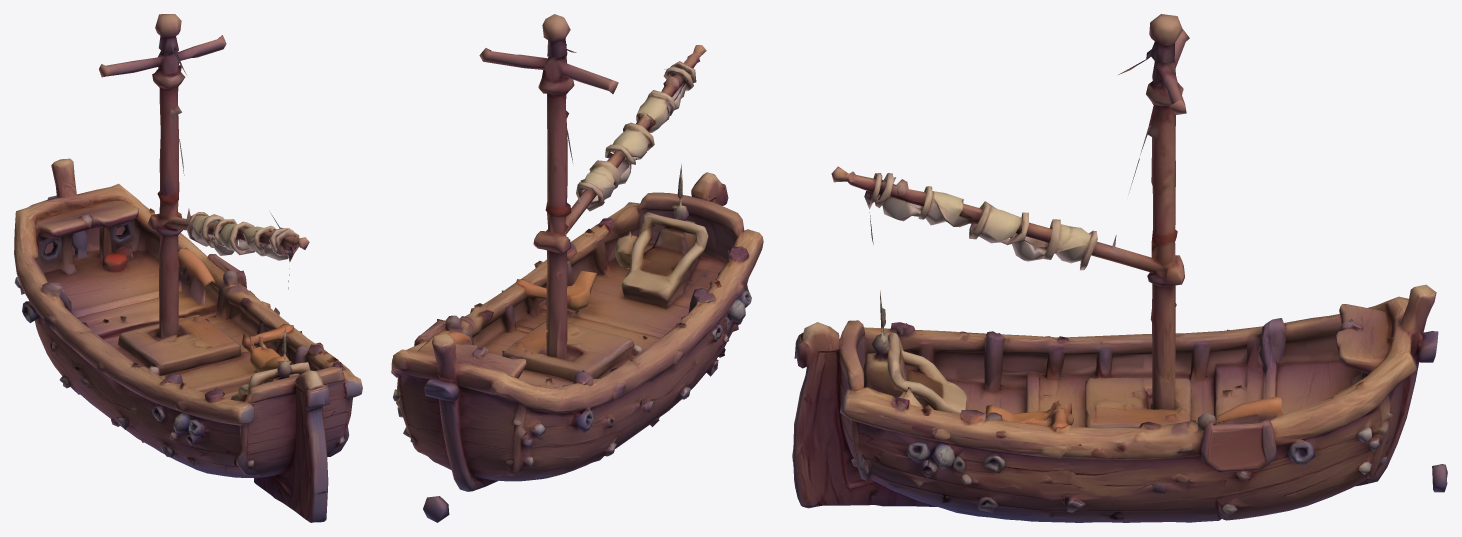
Rendered from stranded-ship.glb.
The picture shows the model from 3 angles, left to right: view 1: azimuth 30°, elevation 25°; view 2: azimuth 150°, elevation 25°; view 3: azimuth 270°, elevation 25°; orthographic projection. The views are drawn at different scales.
Parts seen in each view (by area): view 1: tripo_node_1c167336-026d-4db9-9393-3cc75cd89257; view 2: tripo_node_1c167336-026d-4db9-9393-3cc75cd89257; view 3: tripo_node_1c167336-026d-4db9-9393-3cc75cd89257.
Boxes of the visible parts, x1,y1,x2,y2 form: tripo_node_1c167336-026d-4db9-9393-3cc75cd89257: (14,14,362,522); tripo_node_1c167336-026d-4db9-9393-3cc75cd89257: (391,14,763,522); tripo_node_1c167336-026d-4db9-9393-3cc75cd89257: (792,14,1447,522).
Size of the model in its own units: 6.42 by 13.14 by 16.
1 material, 1 textured.
